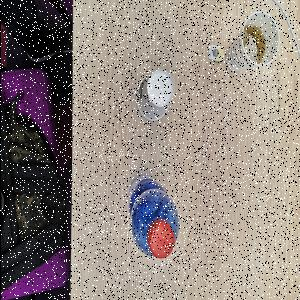Cup: (226, 12, 280, 73), (136, 70, 175, 123)
Plastic-bottle: (128, 175, 180, 260)
